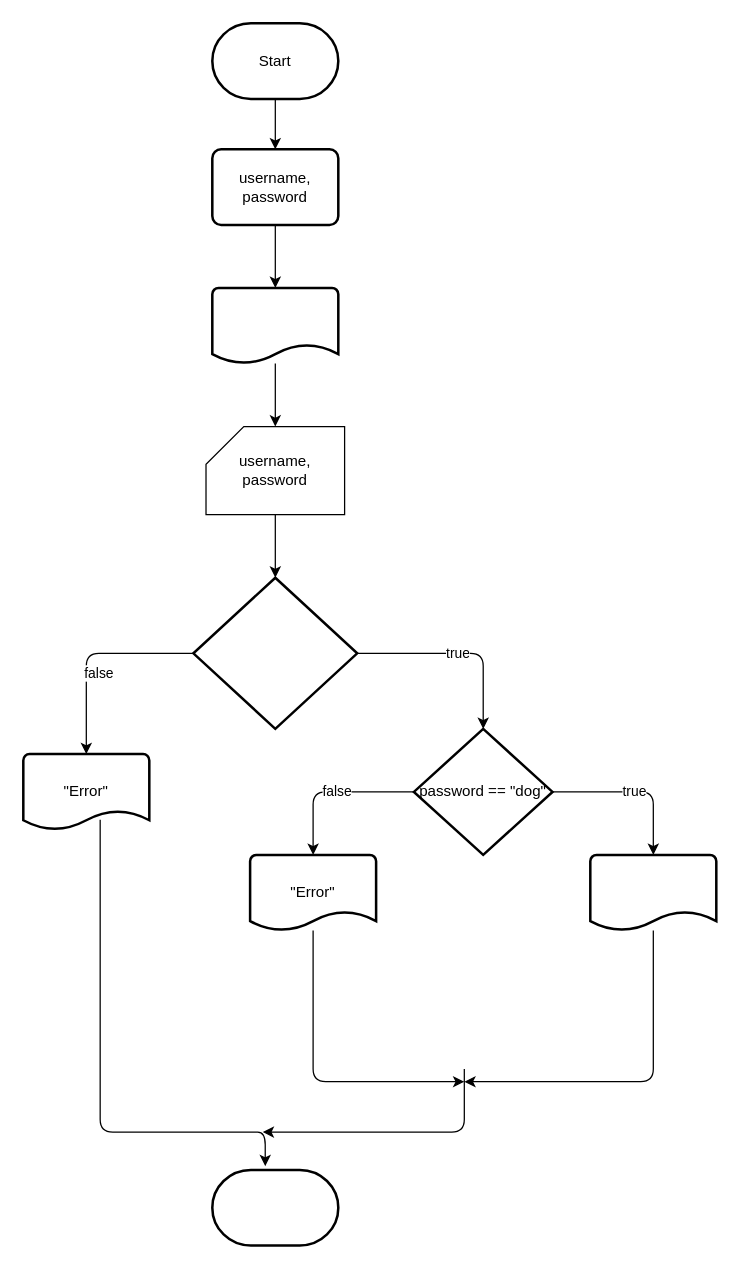
Image size: 738x1268. Some labels were removed from this diagram. Here are the shapes that lost their labels. From the top down, the centre of each, then its label:
(x=274, y=325): "Enter username and password:"
(x=275, y=653): username == "good"
(x=652, y=892): "Welcome"
